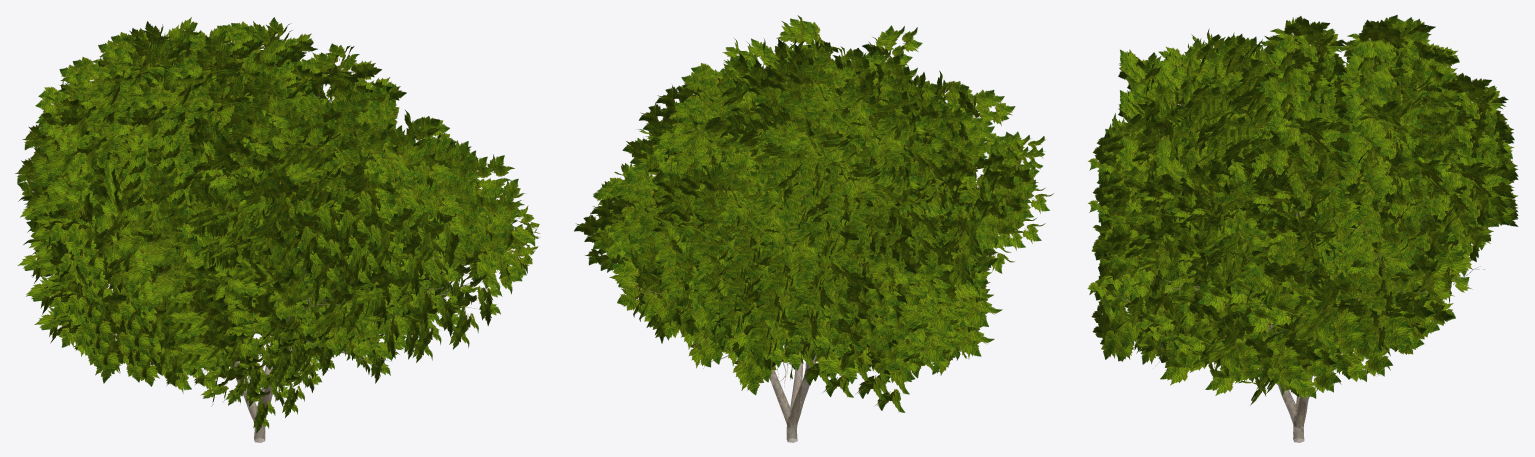
File: arbol_tree.glb
3 renders of one model, left to right at view 1: azimuth 30°, elevation 25°; view 2: azimuth 150°, elevation 25°; view 3: azimuth 270°, elevation 25°, orthographic. The views are drawn at different scales.
Parts seen in each view (by area): view 1: Hojas.017, tree; view 2: Hojas.017, tree; view 3: Hojas.017, tree.
Part boxes in pixels (x1,y1,x2,y2): Hojas.017: (15,17,539,433); tree: (193,165,482,442); Hojas.017: (574,15,1053,412); tree: (594,230,875,442); Hojas.017: (1087,15,1518,405); tree: (1114,199,1484,442).
Bounding box in the file's own units: 1338 × 1177 × 1140.
2 materials, 2 textured.
